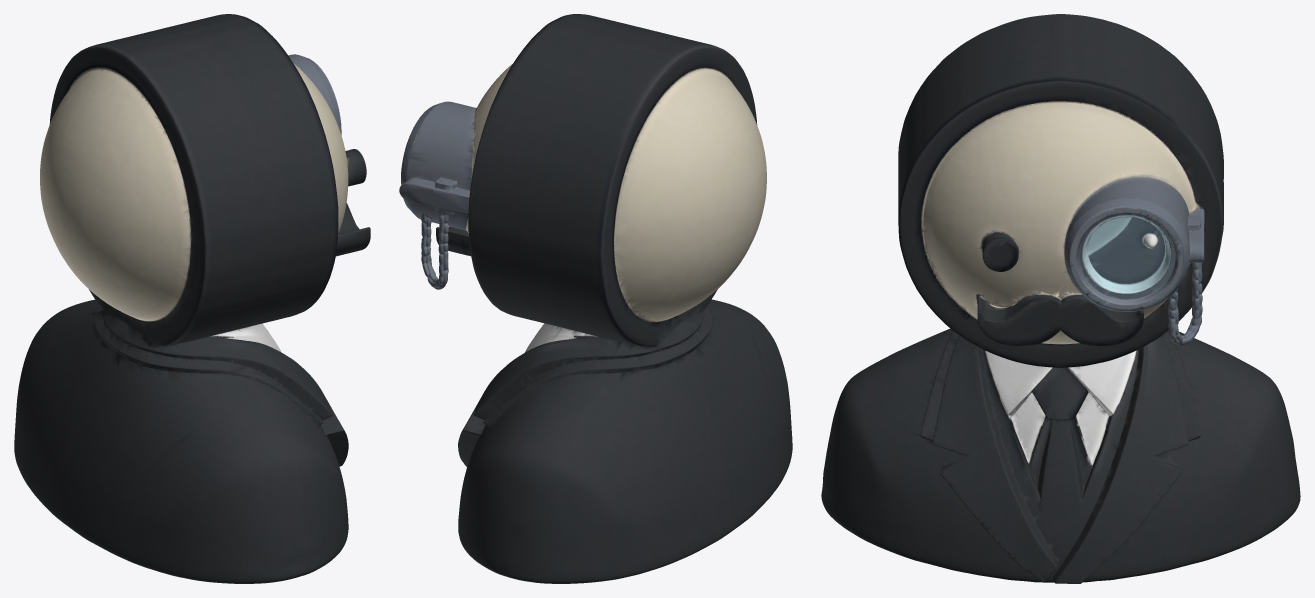
3 renders of one model, left to right at view 1: azimuth 30°, elevation 25°; view 2: azimuth 150°, elevation 25°; view 3: azimuth 270°, elevation 25°, orthographic. The views are drawn at different scales.
Visible parts, largest first — view 1: tripo_node_5c9b7375-6787-464c-8af2-386dd817bfa0; view 2: tripo_node_5c9b7375-6787-464c-8af2-386dd817bfa0; view 3: tripo_node_5c9b7375-6787-464c-8af2-386dd817bfa0.
Boxes of the visible parts, x1,y1,x2,y2 form: tripo_node_5c9b7375-6787-464c-8af2-386dd817bfa0: (14,14,370,583); tripo_node_5c9b7375-6787-464c-8af2-386dd817bfa0: (399,14,792,583); tripo_node_5c9b7375-6787-464c-8af2-386dd817bfa0: (821,14,1300,583).
Bounding box in the file's own units: 0.6398 × 1 × 0.9042.
1 material, 1 textured.
